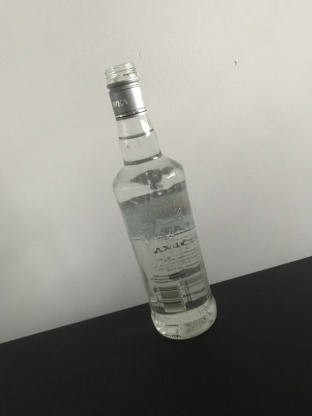nakretka: (102, 59, 148, 123)
